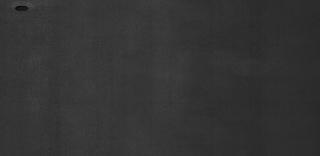punching hole: (12, 4, 32, 14)
